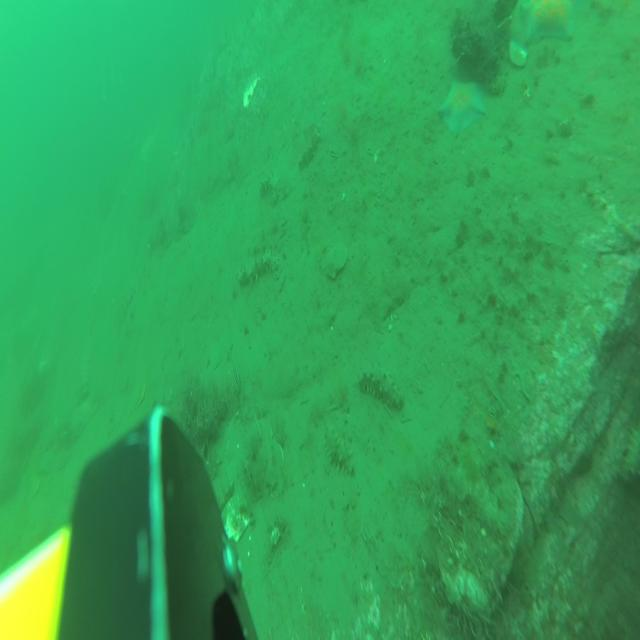holothurian: (360, 365, 404, 411), (324, 426, 354, 478), (238, 249, 278, 287), (298, 128, 320, 169), (623, 426, 640, 478), (118, 283, 136, 331), (259, 174, 281, 204), (80, 360, 90, 401)
scallop: (220, 491, 248, 544), (242, 416, 272, 465), (257, 441, 283, 492), (322, 242, 348, 280), (492, 0, 518, 24), (509, 40, 527, 65)
starfish: (511, 0, 576, 49), (439, 79, 485, 136)
